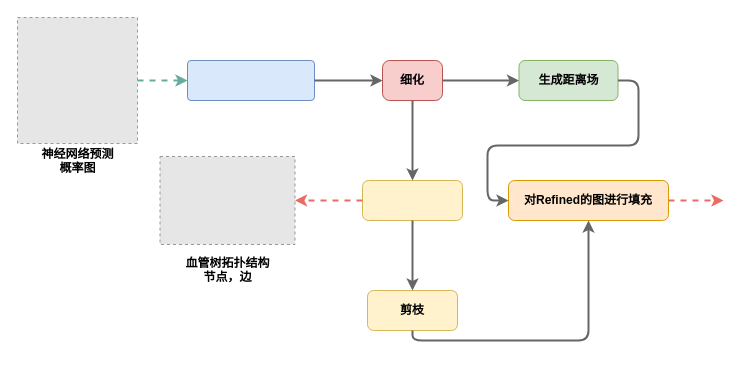
The diagram is 750 pixels wide and 367 high, and some of its shapes have lost their labels. Grey dashed boxes stand in for pictures. Each missing label, with the centre of its shape:
Grow Cut算法二值化: [250,80]
拓扑结构分析: [412,200]
